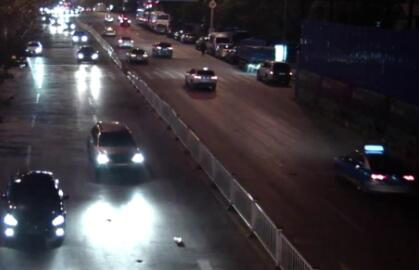bus: (142, 8, 170, 34), (135, 6, 146, 26)
car: (2, 170, 68, 247), (336, 143, 416, 191), (87, 120, 144, 176), (236, 35, 272, 72), (255, 57, 293, 87), (181, 67, 218, 93), (207, 30, 236, 58), (152, 40, 174, 60), (76, 46, 99, 65), (213, 40, 236, 59), (127, 46, 148, 65), (116, 34, 135, 50), (25, 38, 43, 54), (71, 29, 89, 44), (48, 15, 67, 28), (180, 28, 196, 43), (194, 35, 208, 52), (102, 25, 116, 38), (61, 20, 76, 32), (118, 15, 132, 27), (103, 12, 115, 22), (172, 28, 183, 38)
